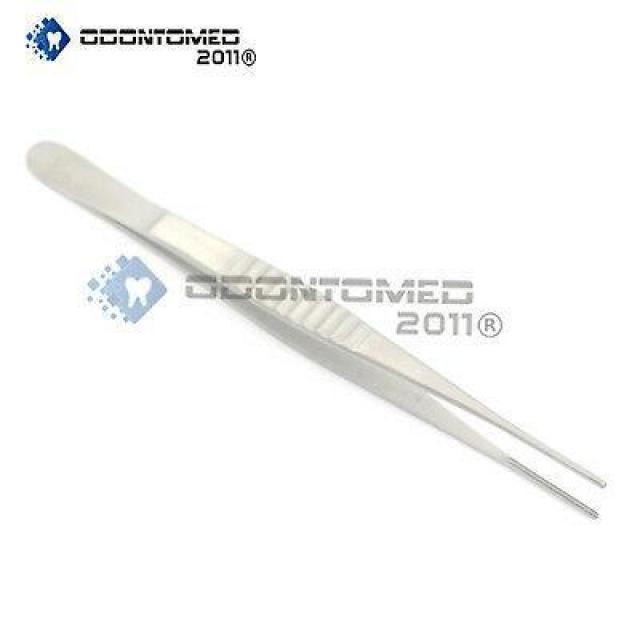Forceps: (22, 133, 610, 522)
